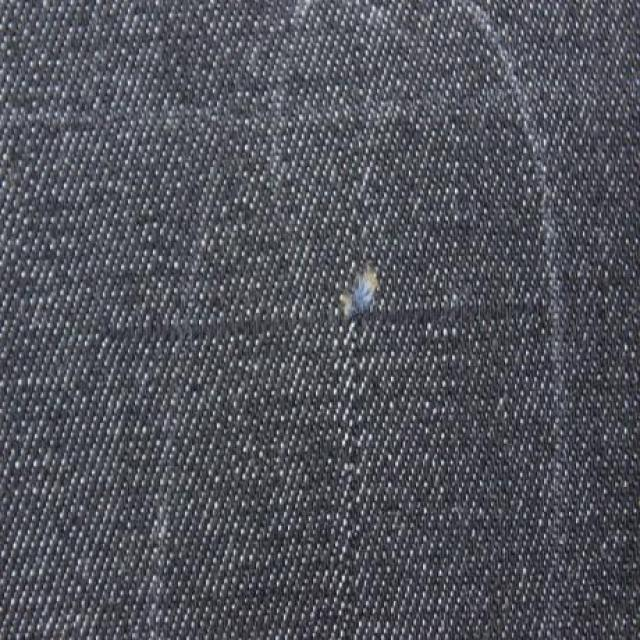stains: (234, 206, 474, 640)
